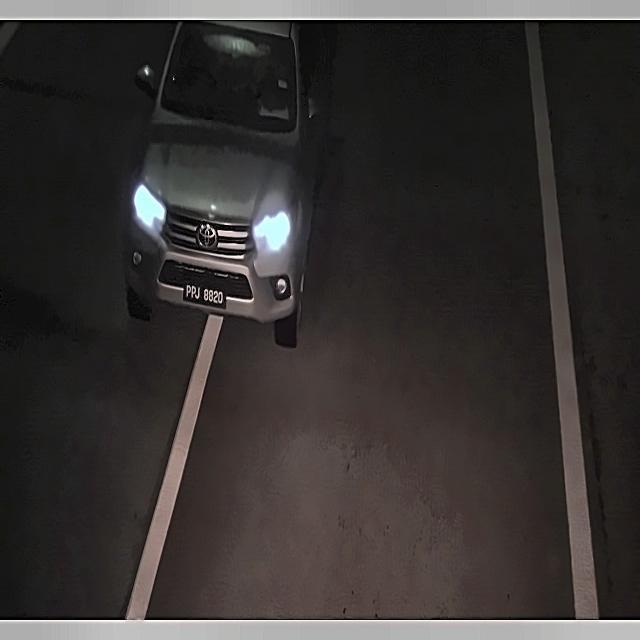car: (177, 275, 228, 313)
